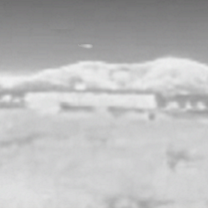Target: (79, 42, 93, 49)
